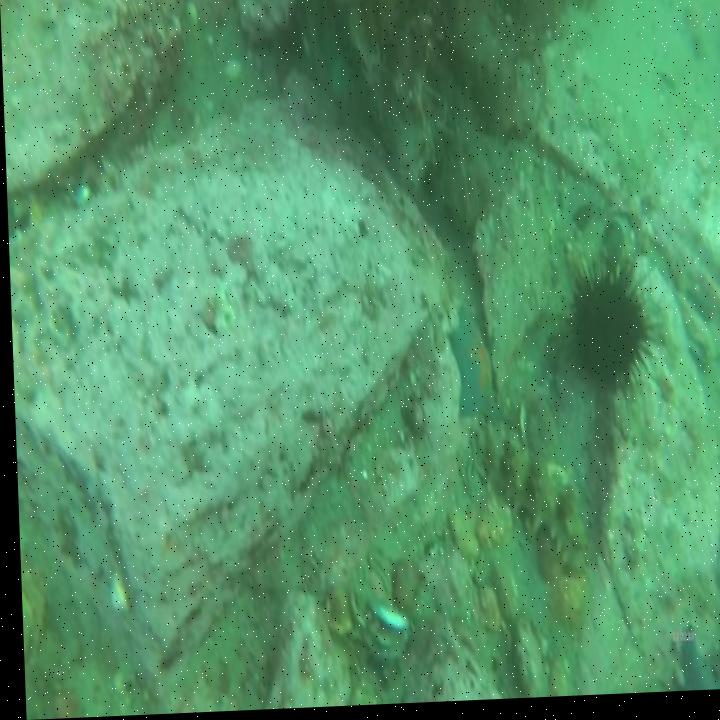echinus: (569, 284, 645, 393)
holothurian: (479, 435, 584, 574)
starfish: (446, 314, 495, 426)
